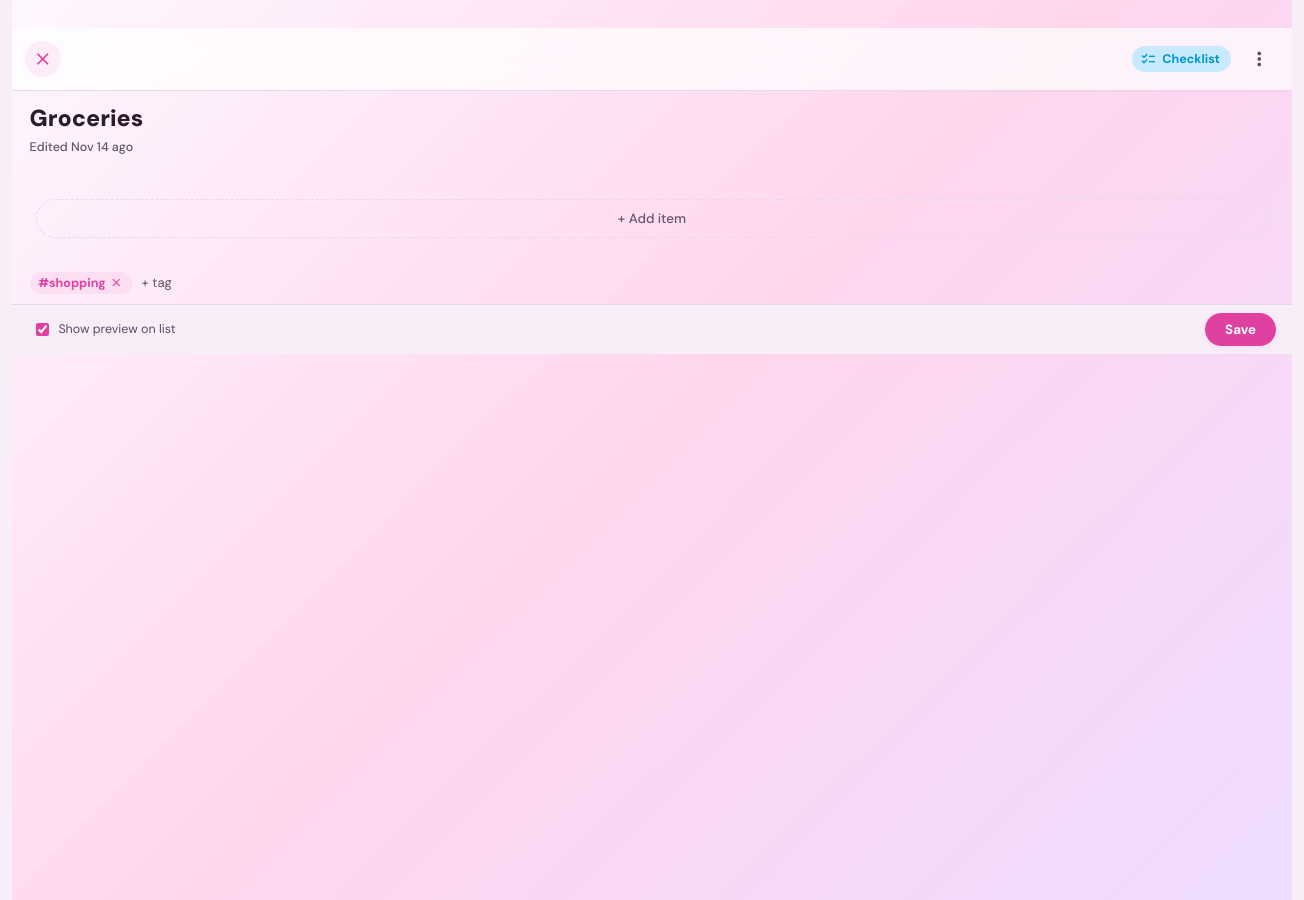
Test: saving › shows the error and stays put when the write fails
The width and height of the screenshot is (1304, 900).
Step 1. Replace the text in the text box with class "title-input" with "will not save" → (652, 119), box [12,103,1292,135]
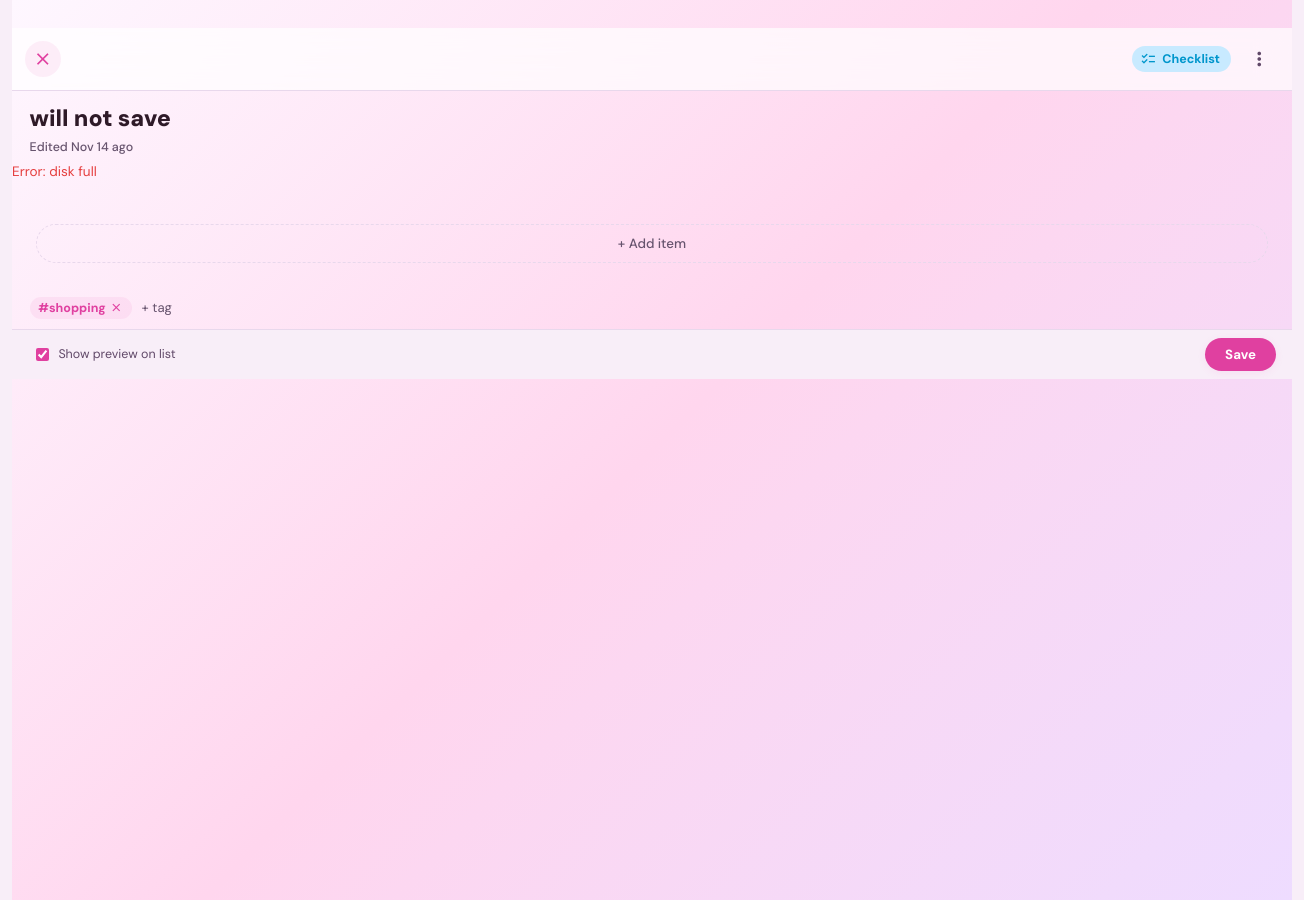
Expected: the text "disk full" is shown, [12,163,97,180]
